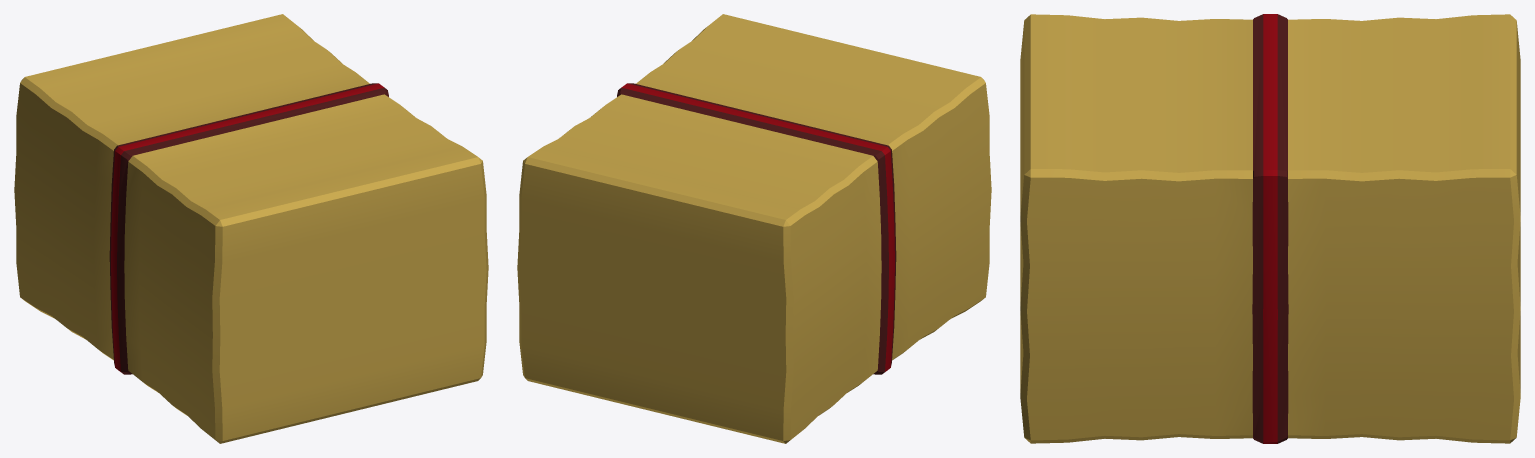
File: hay_mat.fbx
3 views of the same model, side by side, from view 1: azimuth 30°, elevation 25°; view 2: azimuth 150°, elevation 25°; view 3: azimuth 270°, elevation 25° (orthographic). The views are drawn at different scales.
Visible parts, largest first — view 1: Hay; view 2: Hay; view 3: Hay.
Boxes of the visible parts, <box> form: Hay: <box>14,14,488,443</box>; Hay: <box>517,14,991,443</box>; Hay: <box>1020,14,1520,443</box>.
Bounding box in the file's own units: 103 × 80 × 132.
